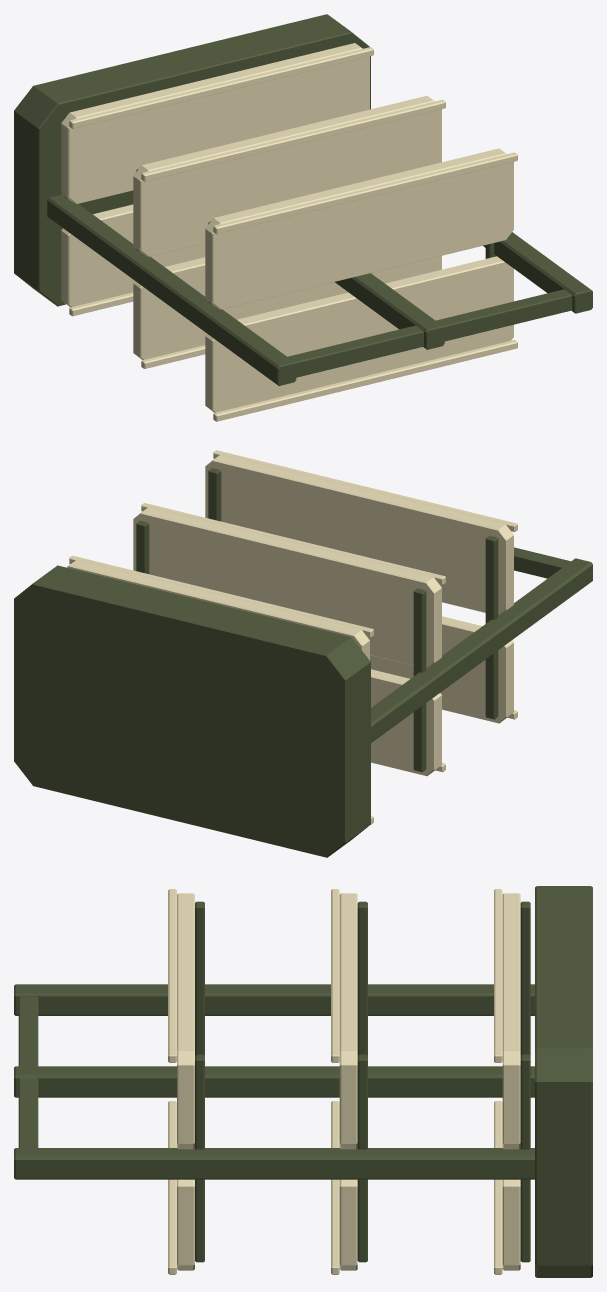
File: fixture_02_double_sided_aisle.glb
3 renders of one model, top to bottom at view 1: azimuth 30°, elevation 25°; view 2: azimuth 150°, elevation 25°; view 3: azimuth 270°, elevation 25°, orthographic. The views are drawn at different scales.
Parts seen in each view (by area): view 1: fixture_02_double_sided_aisle; view 2: fixture_02_double_sided_aisle; view 3: fixture_02_double_sided_aisle.
Boxes of the visible parts, x1=… form: fixture_02_double_sided_aisle: x1=14, y1=14, x2=592, y2=421; fixture_02_double_sided_aisle: x1=14, y1=450, x2=592, y2=857; fixture_02_double_sided_aisle: x1=14, y1=886, x2=592, y2=1277.
Size of what is drawn, in the model's own units: 1.2 by 0.7 by 1.6.
